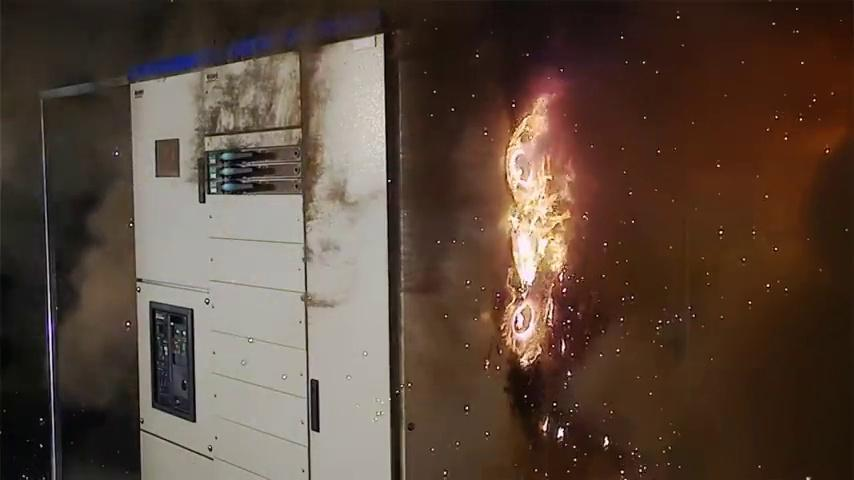fire: (407, 48, 676, 382)
